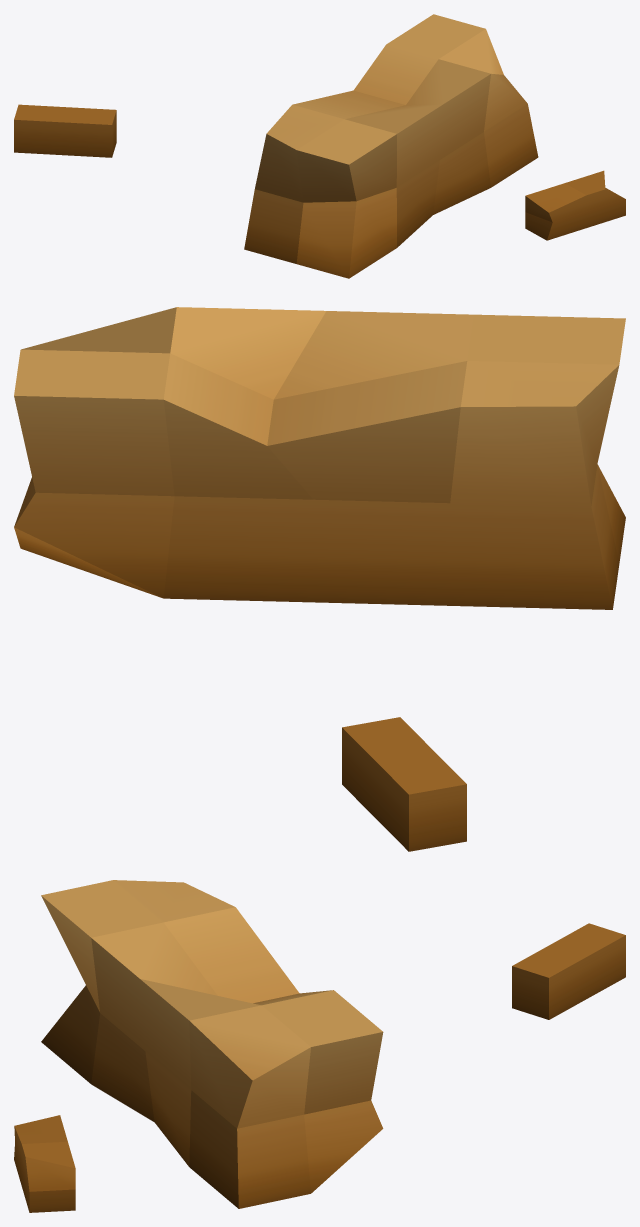
Rendered from ruins_05.fbx.
The picture shows the model from 3 angles, top to bottom: view 1: azimuth 30°, elevation 25°; view 2: azimuth 150°, elevation 25°; view 3: azimuth 270°, elevation 25°; orthographic projection. The views are drawn at different scales.
Parts seen in each view (by area): view 1: ruins_05; view 2: ruins_05; view 3: ruins_05.
Boxes of the visible parts, x1=… form: ruins_05: x1=14, y1=14, x2=625, y2=278; ruins_05: x1=14, y1=307, x2=625, y2=851; ruins_05: x1=14, y1=880, x2=625, y2=1212.
Size of the model in its own units: 170 by 46.94 by 178.
